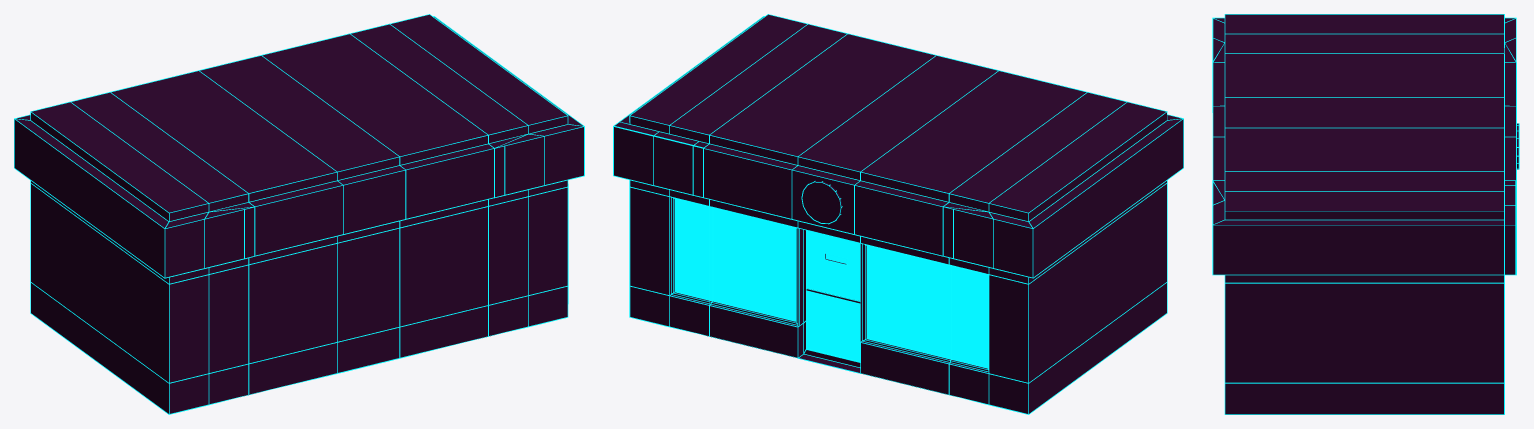
The model's file is House.fbx.
3 renders of one model, left to right at view 1: azimuth 30°, elevation 25°; view 2: azimuth 150°, elevation 25°; view 3: azimuth 270°, elevation 25°, orthographic.
Visible parts, largest first — view 1: Cube, Cube.001; view 2: Cube, Cube.001; view 3: Cube, Cube.001.
Boxes of the visible parts, <box> form: Cube: <box>14,14,583,413</box>; Cube.001: <box>14,14,584,414</box>; Cube: <box>614,14,1183,413</box>; Cube.001: <box>613,14,1183,414</box>; Cube: <box>1213,14,1518,414</box>; Cube.001: <box>1212,14,1519,414</box>.
Size of the model in its own units: 3779 by 1740 by 2369.
